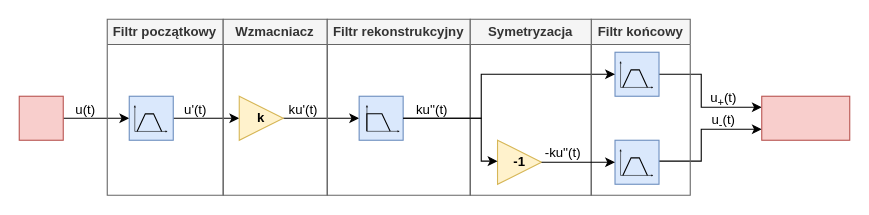
This 869x215 diagram has some shape labels left out. Here are the shapes that lost their labels. From the top down, the centre of each, then its label:
At [40,117]: "DAC".
At [805,117]: "Głośnik".
